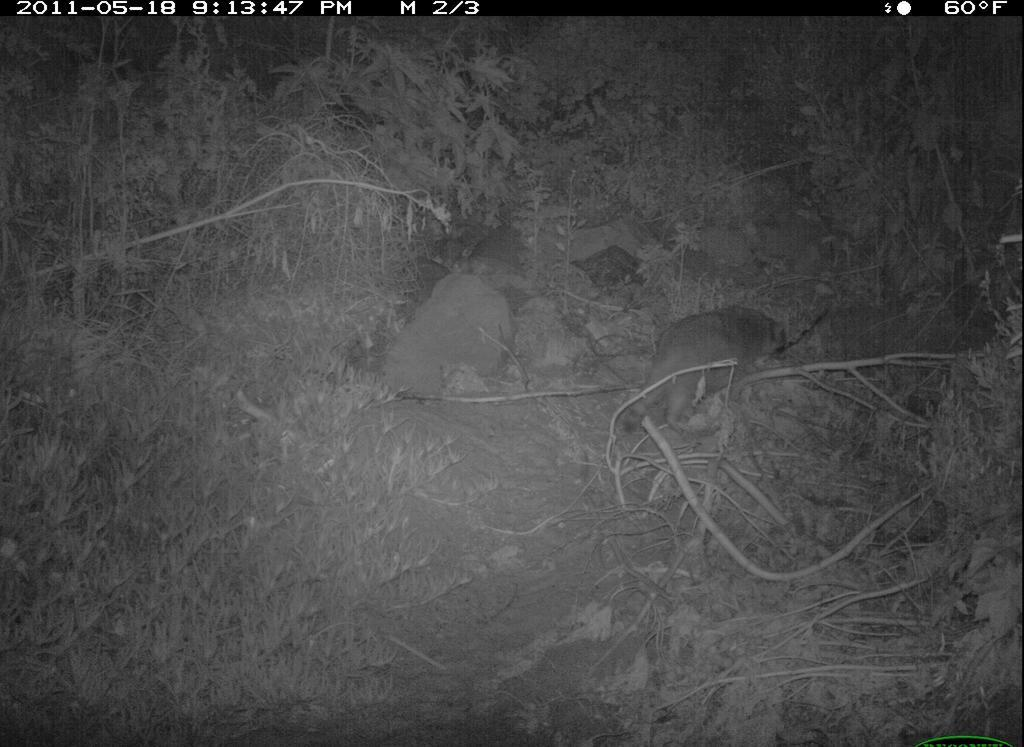raccoon: (610, 301, 798, 446)
